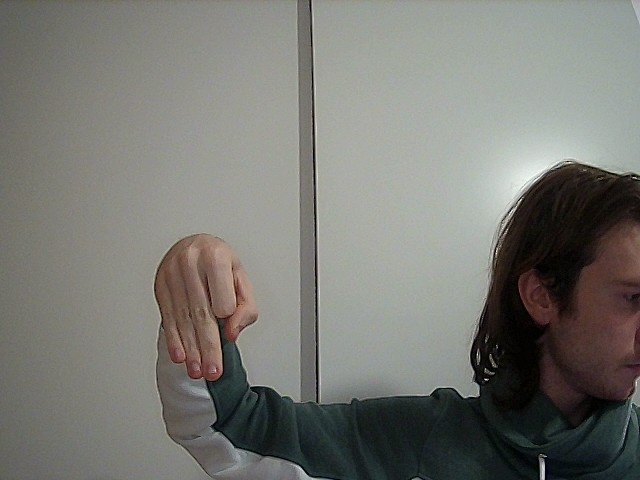m: (136, 231, 279, 386)
